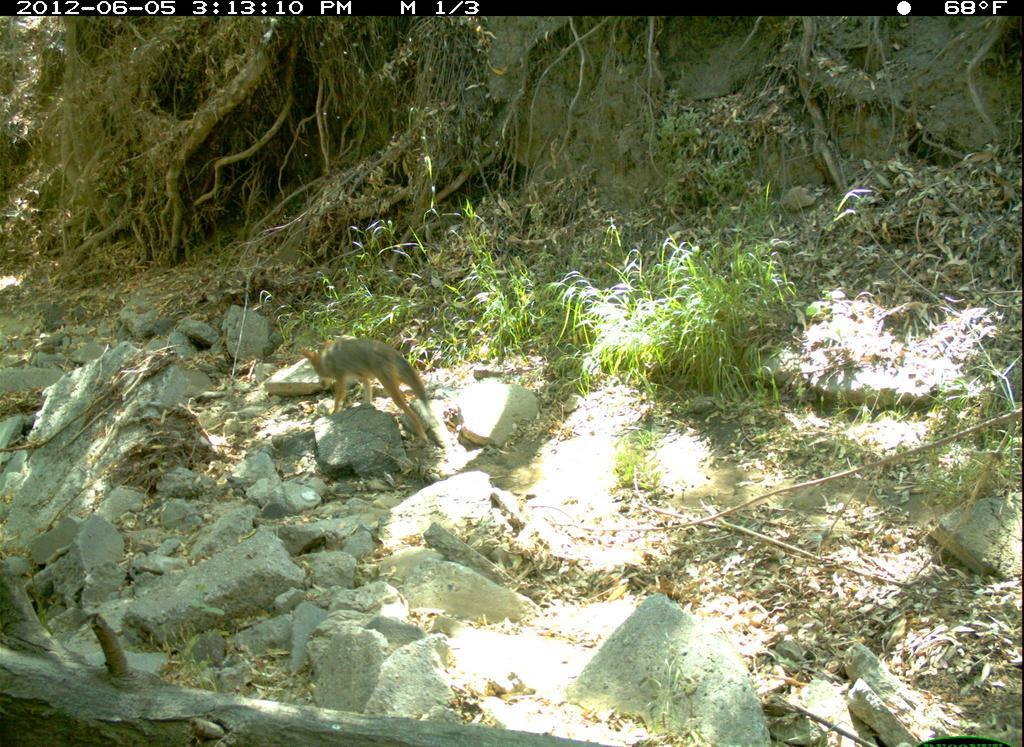coyote: (294, 329, 442, 455)
